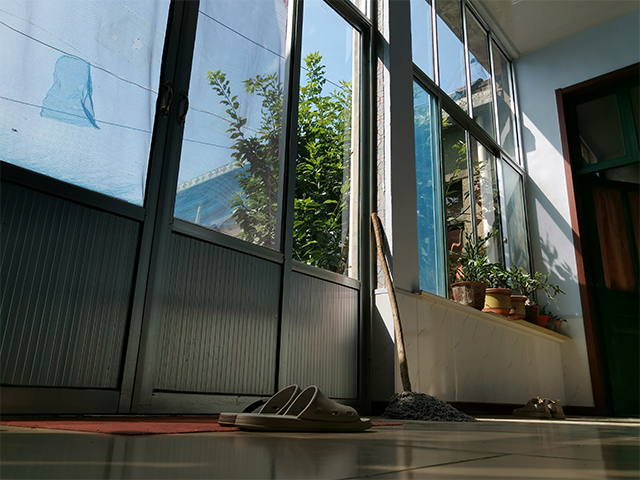carpet: (1, 414, 240, 435)
slippers: (234, 380, 373, 433)
